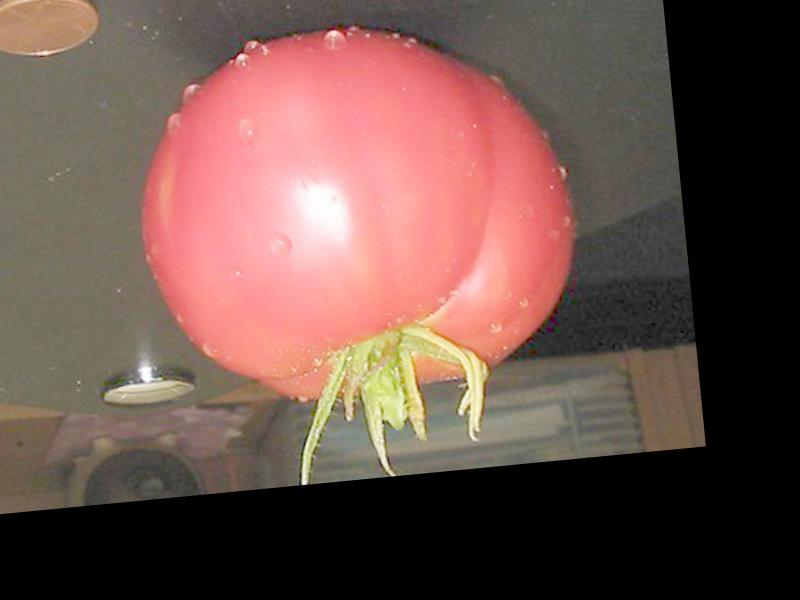Tomato: (126, 8, 590, 416)
